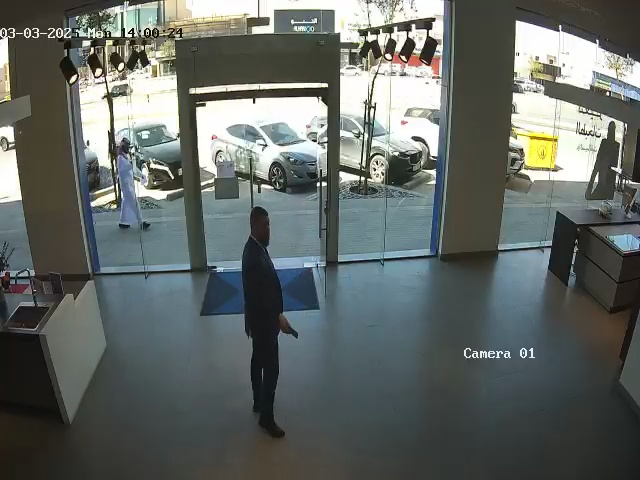employee: (241, 205, 297, 439)
other: (583, 104, 625, 206), (116, 138, 151, 231)
